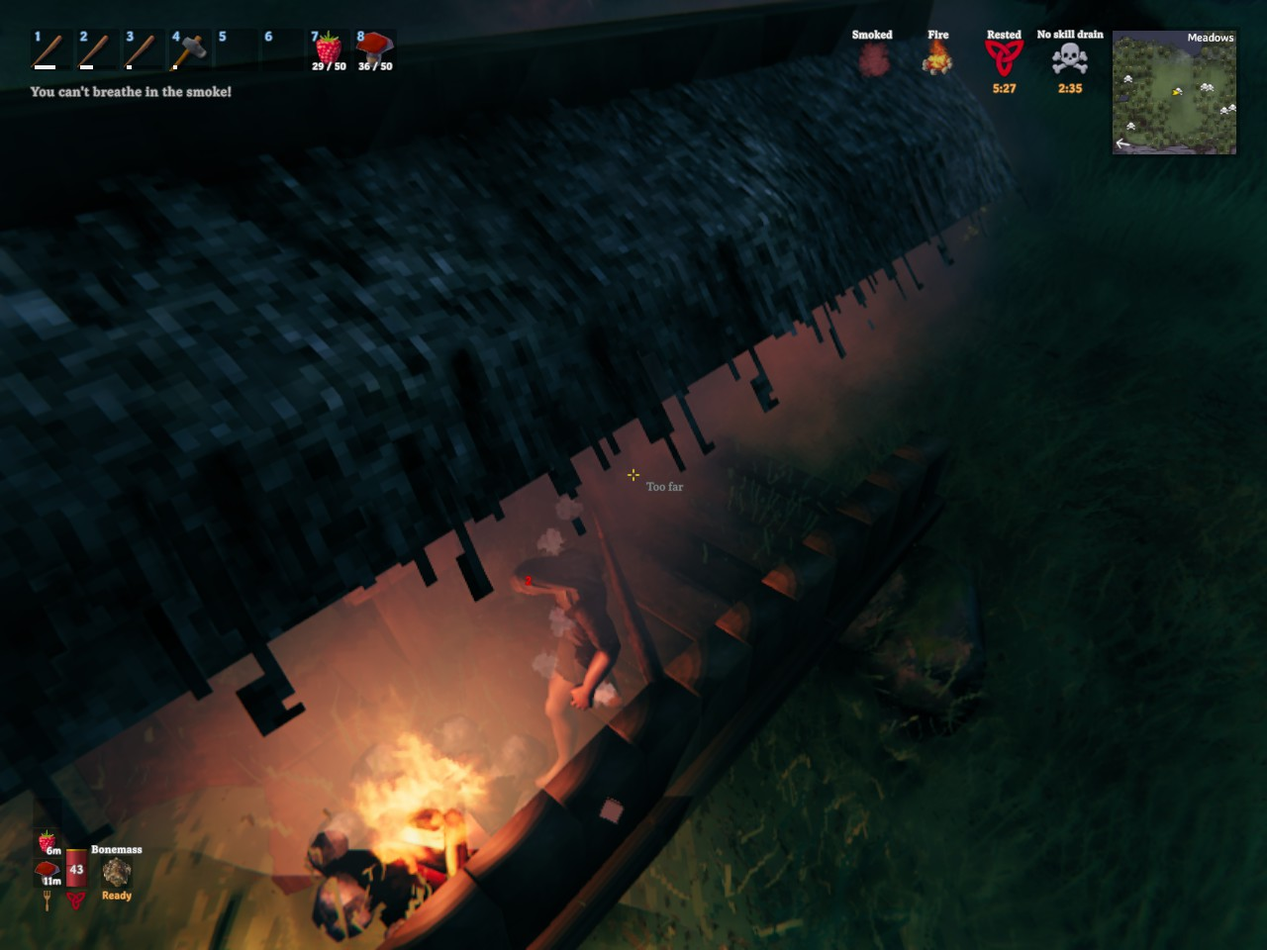Status Indicator: (839, 17, 1110, 105)
